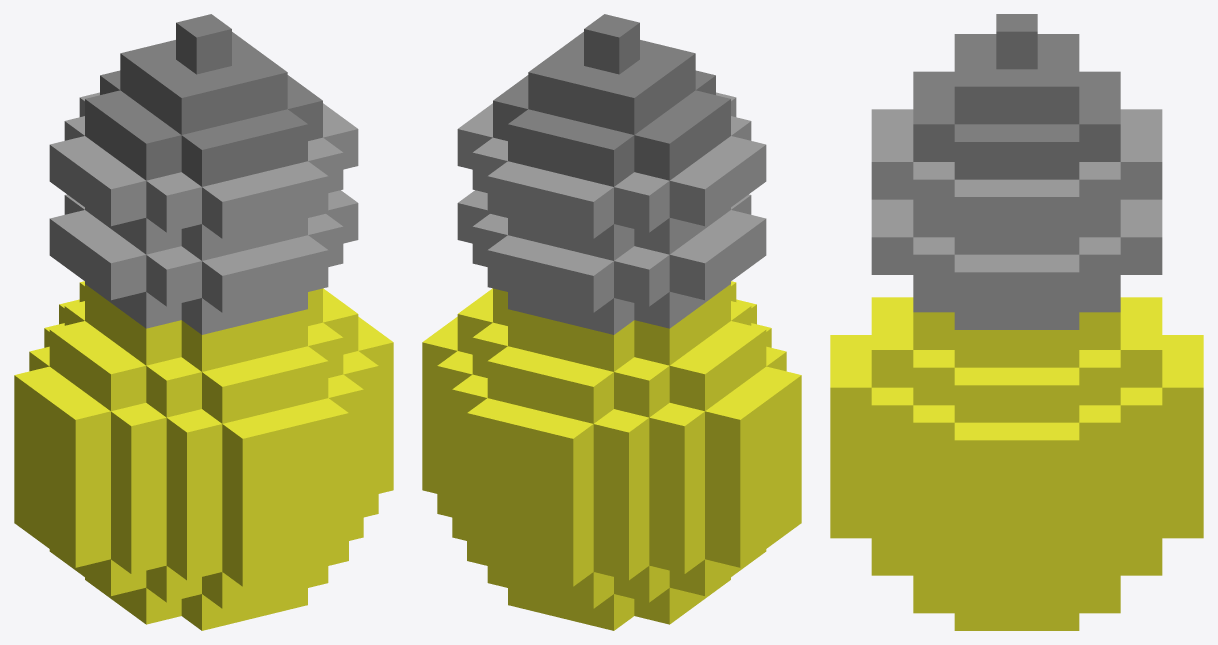
The model's file is bulb.obj.
The picture shows the model from 3 angles, left to right: view 1: azimuth 30°, elevation 25°; view 2: azimuth 150°, elevation 25°; view 3: azimuth 270°, elevation 25°; orthographic projection.
Size of the model in its own units: 9 by 15 by 9.
1 material, 1 textured.
